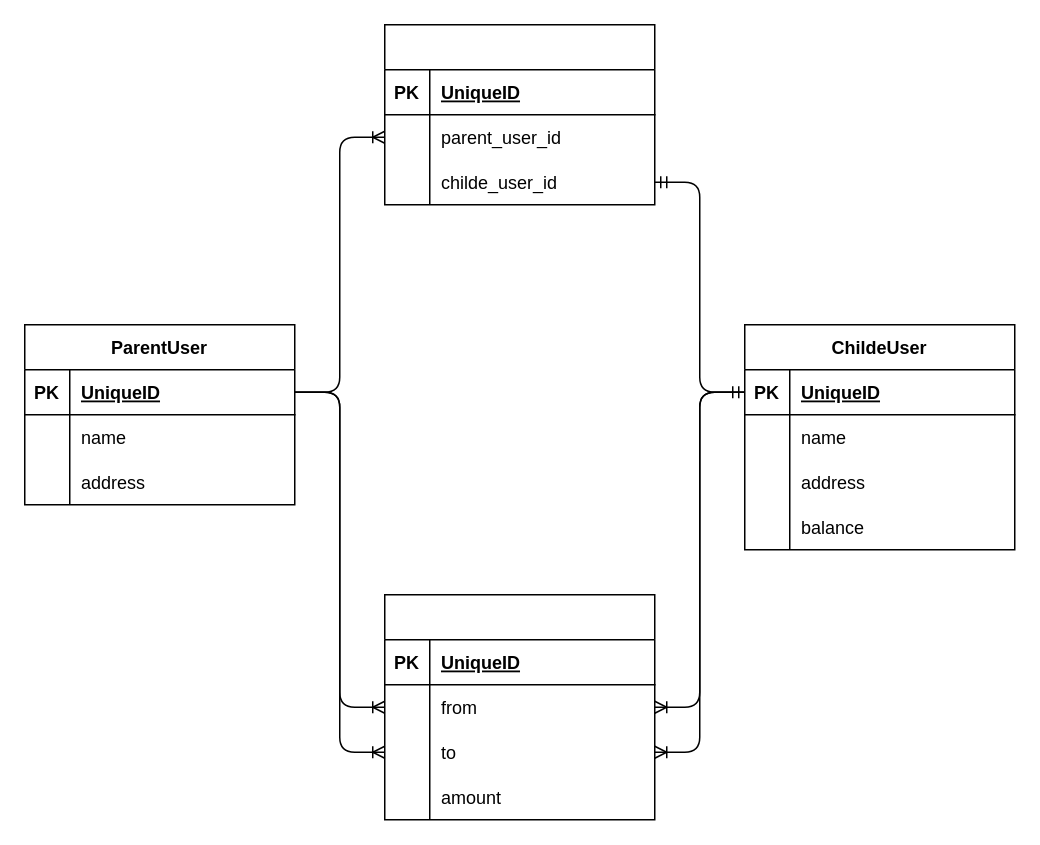
Image size: 1040x845. Some labels were removed from this diagram. Here are the shapes that lost their labels. From the top down, the box of each, then its label:
(383, 23, 655, 205): Organization
(383, 593, 655, 820): History
